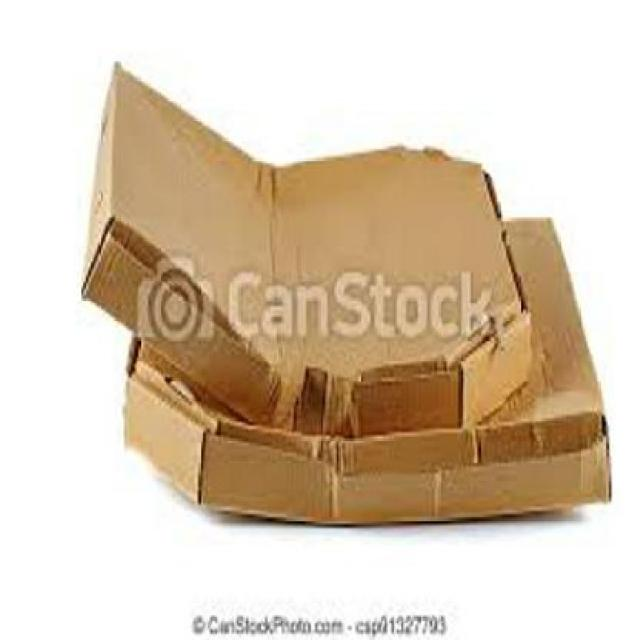defect: (66, 61, 532, 428)
